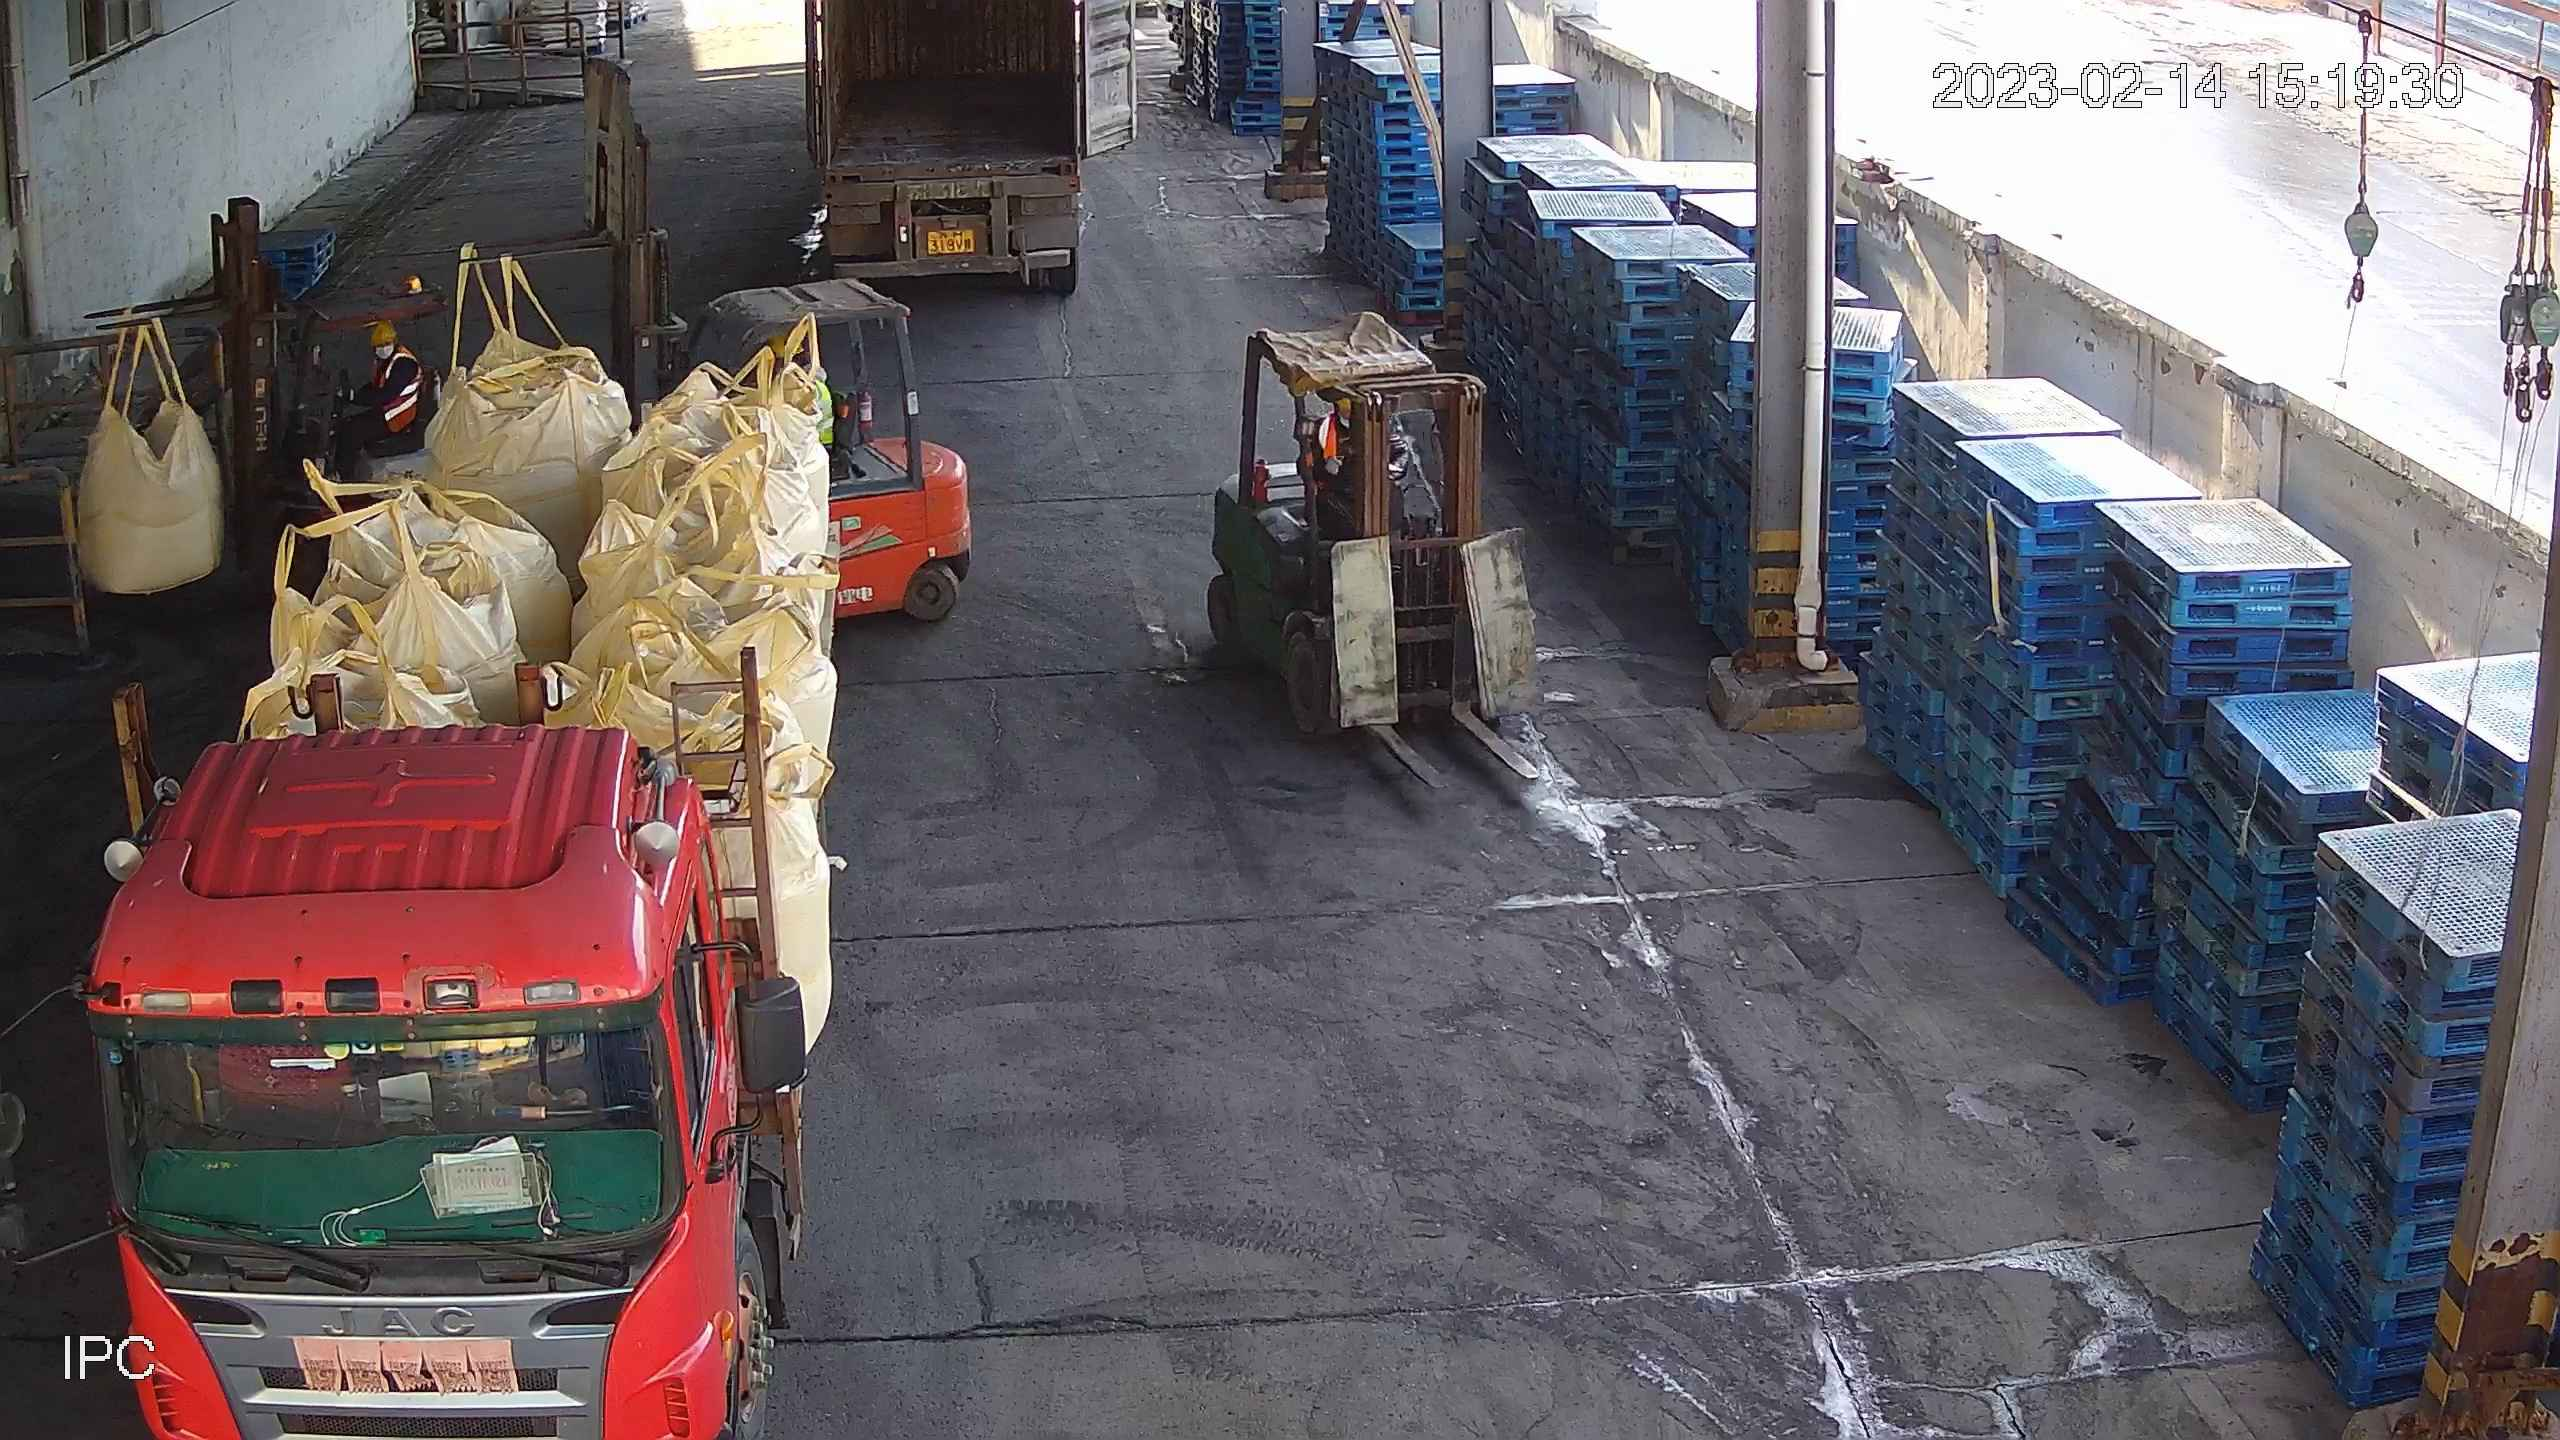head: (363, 319, 422, 368)
helmet: (372, 315, 397, 349)
people: (337, 313, 429, 450)
truck: (61, 262, 853, 1425), (799, 8, 1153, 299)
